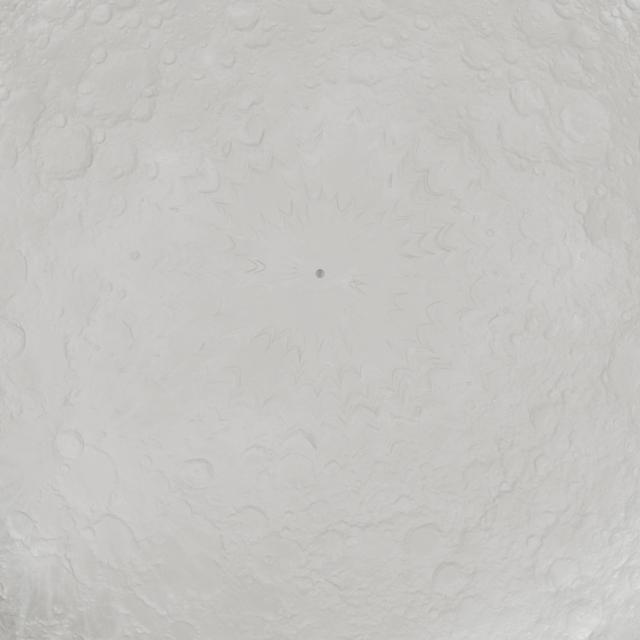crater: (508, 79, 550, 122), (460, 32, 504, 69), (102, 139, 140, 181), (402, 523, 446, 557), (9, 509, 43, 544), (578, 48, 613, 80), (432, 560, 466, 590), (180, 457, 214, 487), (228, 4, 262, 32), (55, 430, 84, 460), (74, 90, 104, 118), (596, 5, 628, 30), (128, 94, 156, 122), (239, 27, 270, 50), (499, 41, 524, 65), (357, 3, 386, 22), (88, 4, 114, 25), (552, 2, 580, 21), (532, 452, 552, 476), (572, 194, 590, 217), (542, 321, 561, 342), (378, 31, 398, 49), (160, 48, 179, 66), (218, 52, 238, 69), (413, 14, 433, 31), (146, 12, 166, 29), (90, 47, 108, 65), (322, 458, 341, 475), (50, 112, 68, 129), (526, 534, 542, 551), (142, 83, 158, 98), (92, 128, 106, 144), (190, 66, 206, 80), (397, 27, 412, 41), (594, 184, 608, 197), (141, 36, 154, 50), (263, 554, 276, 565), (117, 288, 127, 300), (40, 55, 50, 66)
